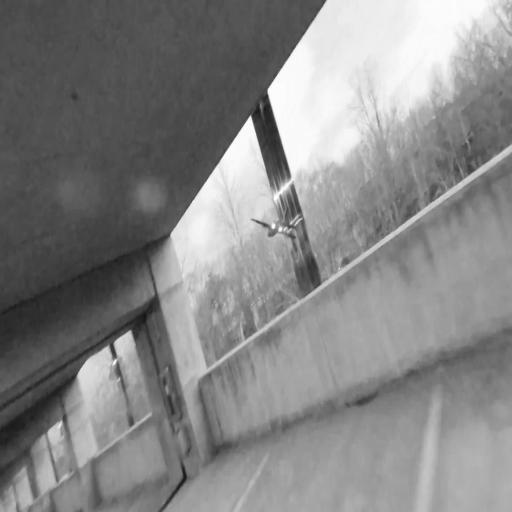uav: (248, 203, 302, 245)
